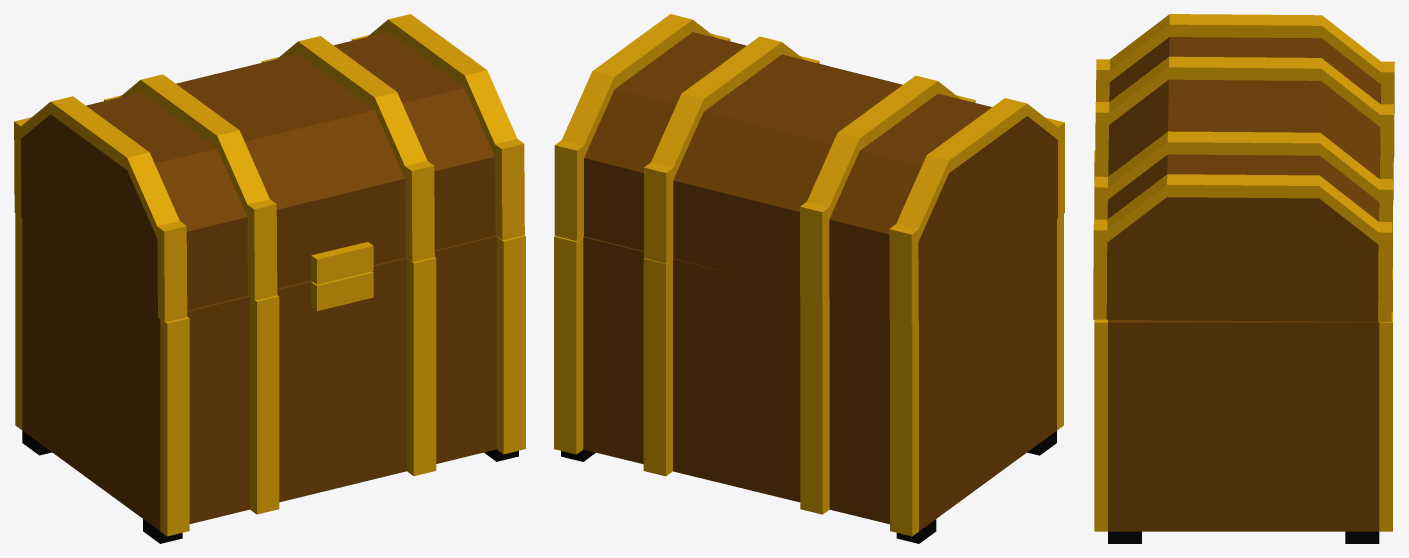
Rendered from Chest.fbx.
3 renders of one model, left to right at view 1: azimuth 30°, elevation 25°; view 2: azimuth 150°, elevation 25°; view 3: azimuth 270°, elevation 25°, orthographic.
Parts seen in each view (by area): view 1: Chest, Lid; view 2: Chest, Lid; view 3: Lid, Chest.
Part boxes in pixels (x1,y1,x2,y2): Chest: [15, 213, 525, 543]; Lid: [14, 14, 524, 322]; Chest: [554, 214, 1063, 543]; Lid: [554, 14, 1064, 324]; Lid: [1093, 14, 1394, 321]; Chest: [1094, 150, 1392, 543].
Bounding box in the file's own units: 302 × 291 × 222.
